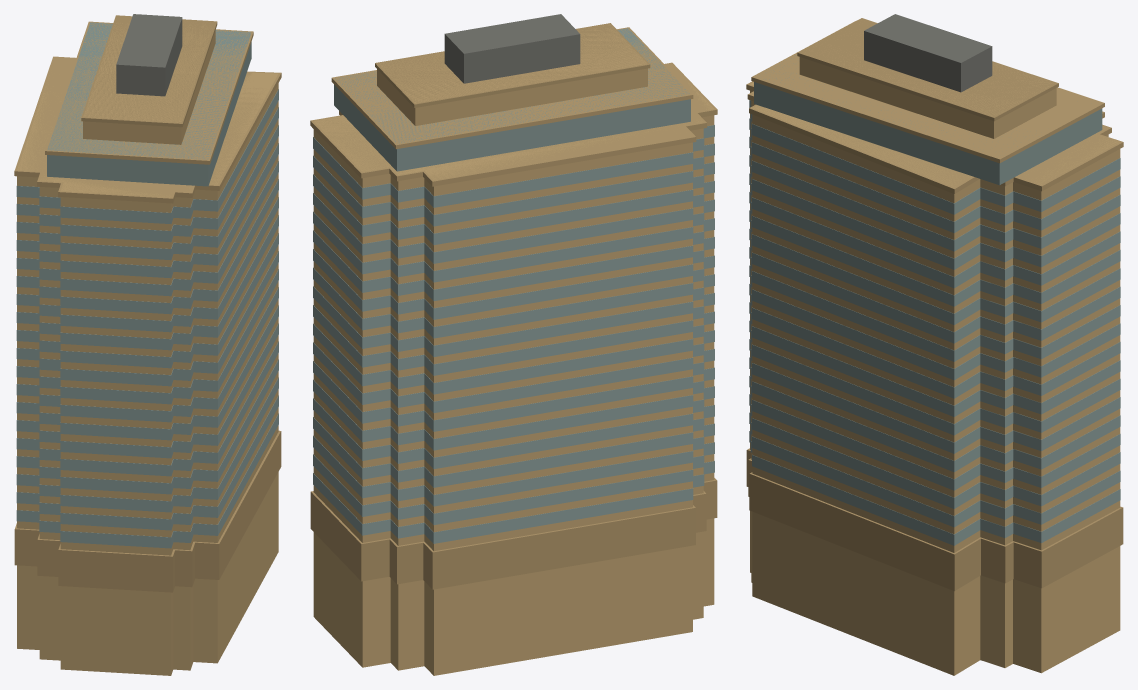
Rendered from riverfront-plaza-east-tower.glb.
3 renders of one model, left to right at view 1: azimuth 30°, elevation 25°; view 2: azimuth 150°, elevation 25°; view 3: azimuth 270°, elevation 25°, orthographic. The views are drawn at different scales.
Visible parts, largest first — view 1: shaft; view 2: shaft; view 3: shaft.
Boxes of the visible parts, x1,y1,x2,y2 form: shaft: (14,14,281,675); shaft: (310,14,717,675); shaft: (746,14,1123,675).
Bounding box in the file's own units: 65.62 × 116 × 69.7.
